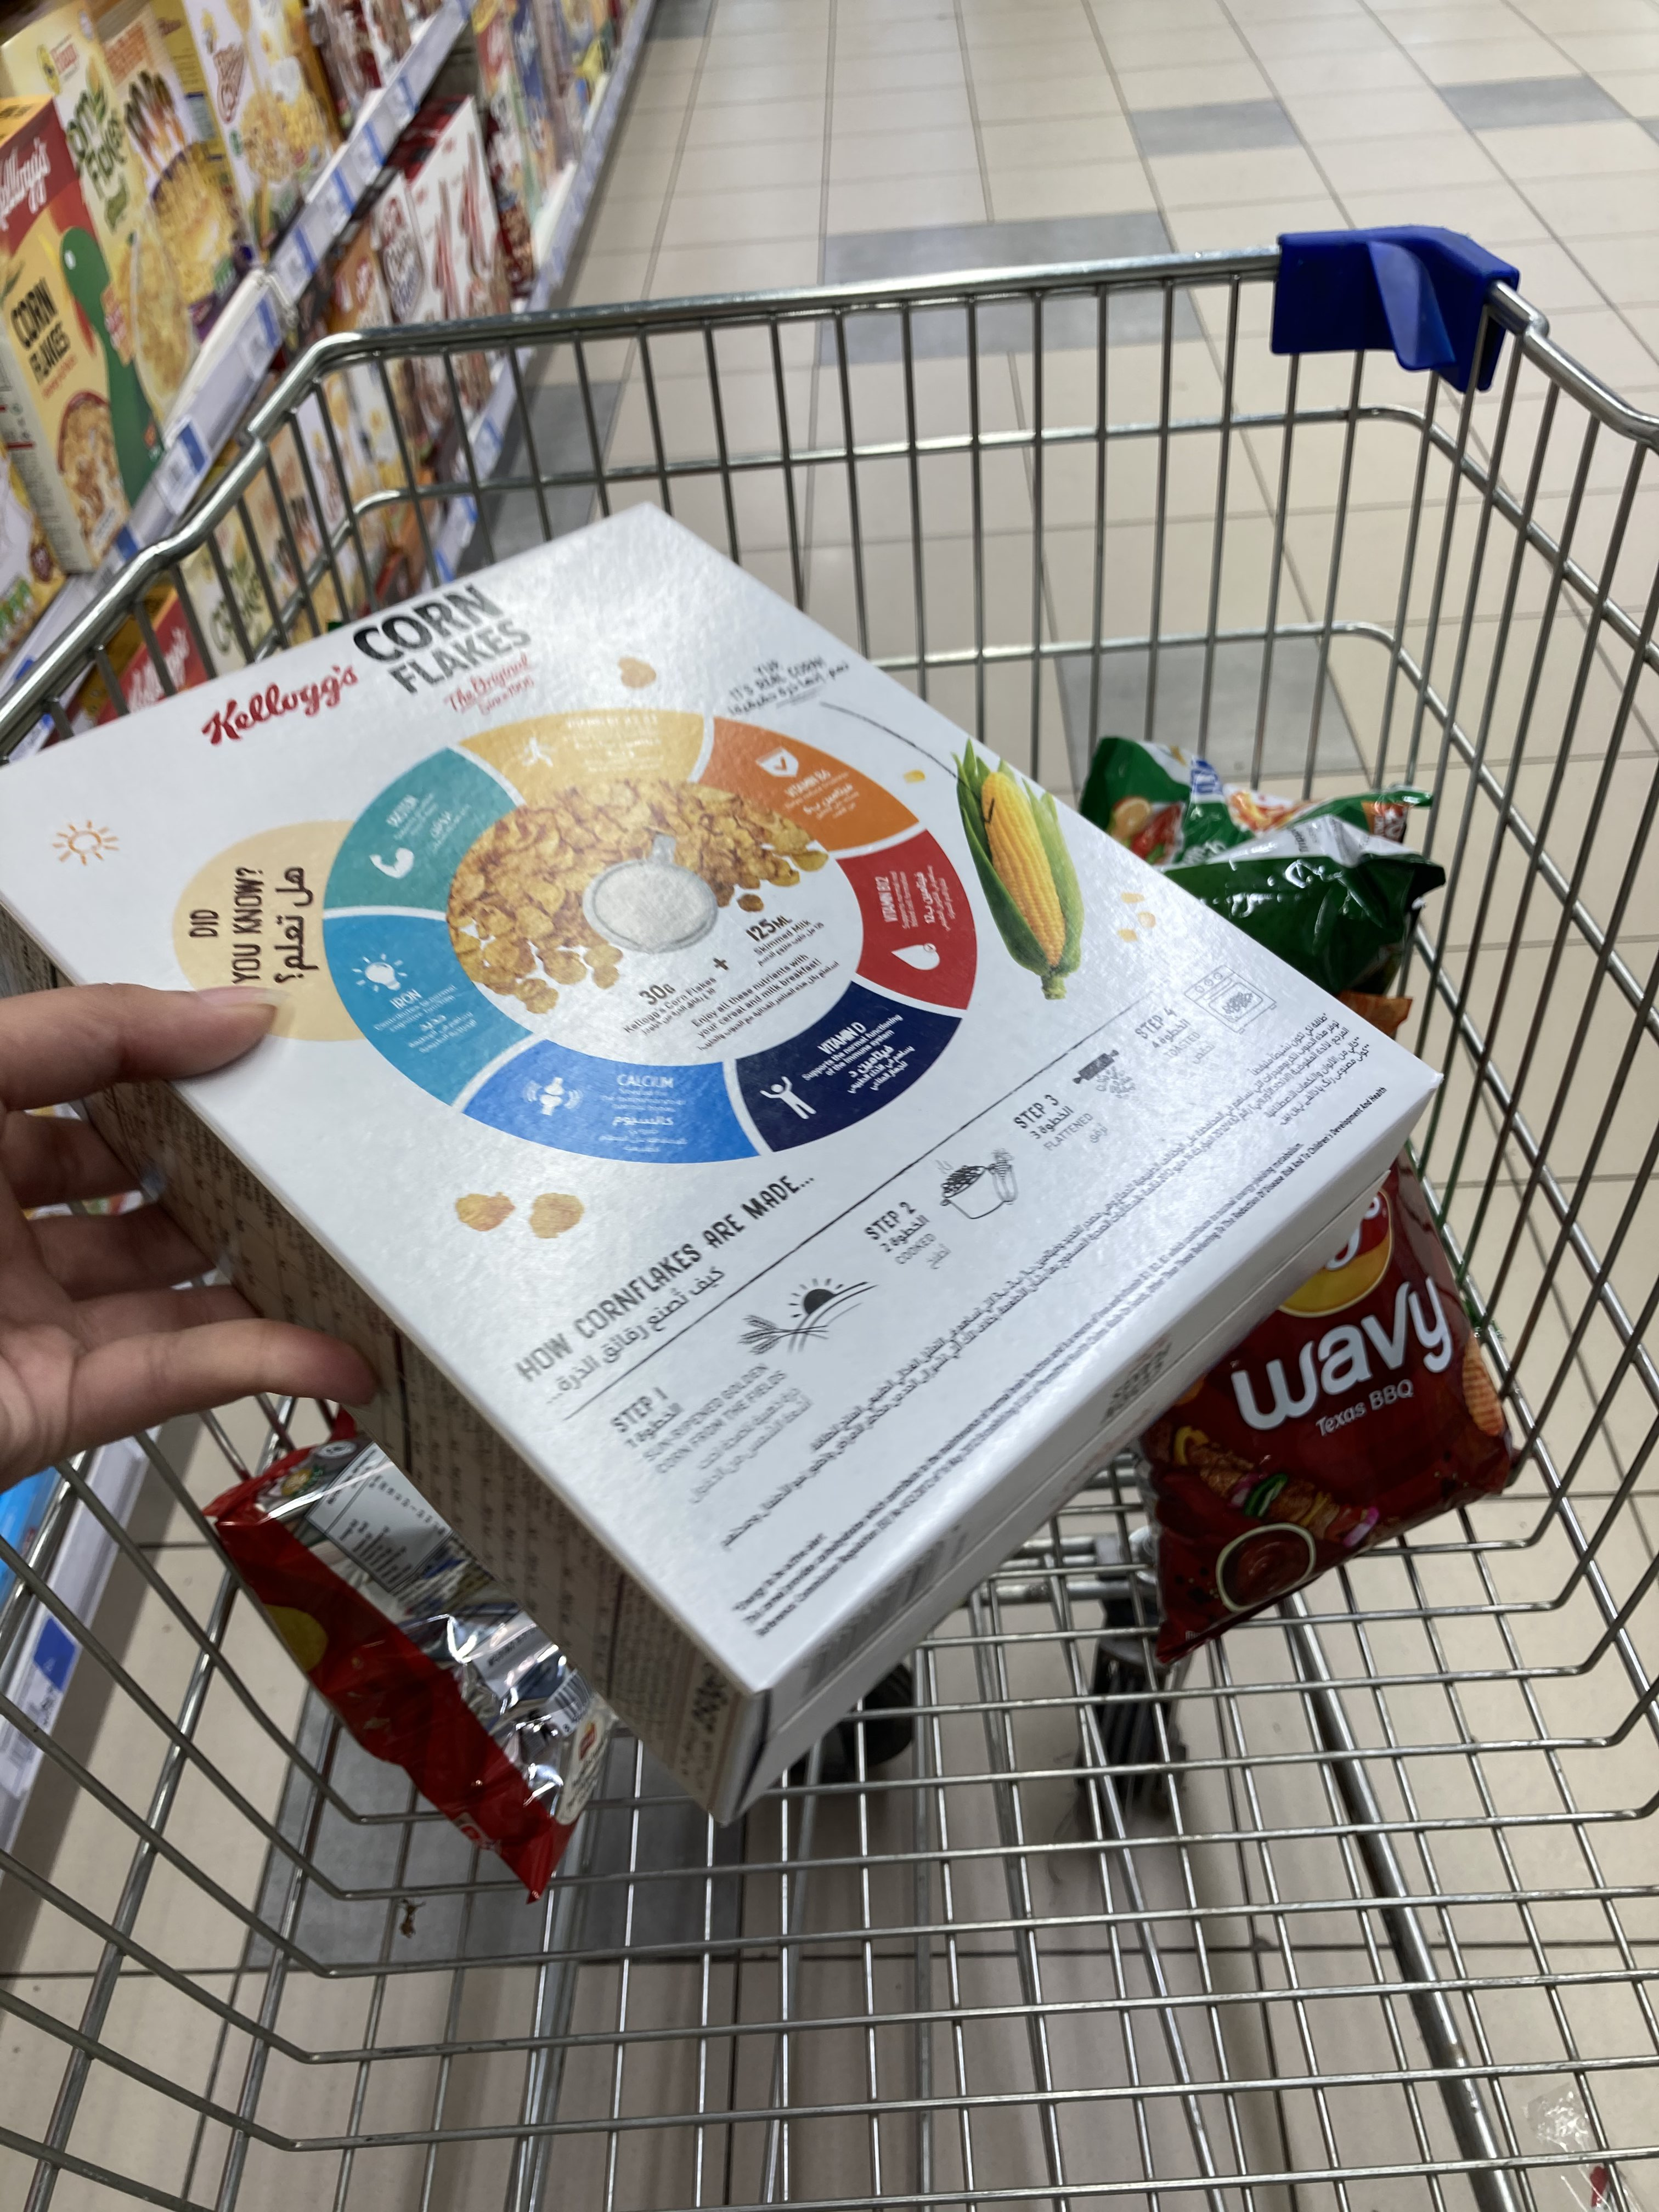Kellogg's Corn Flakes: (9, 503, 1455, 1818)
